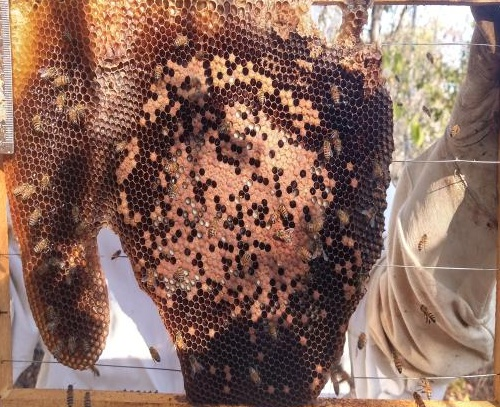cria: (115, 53, 362, 364)
